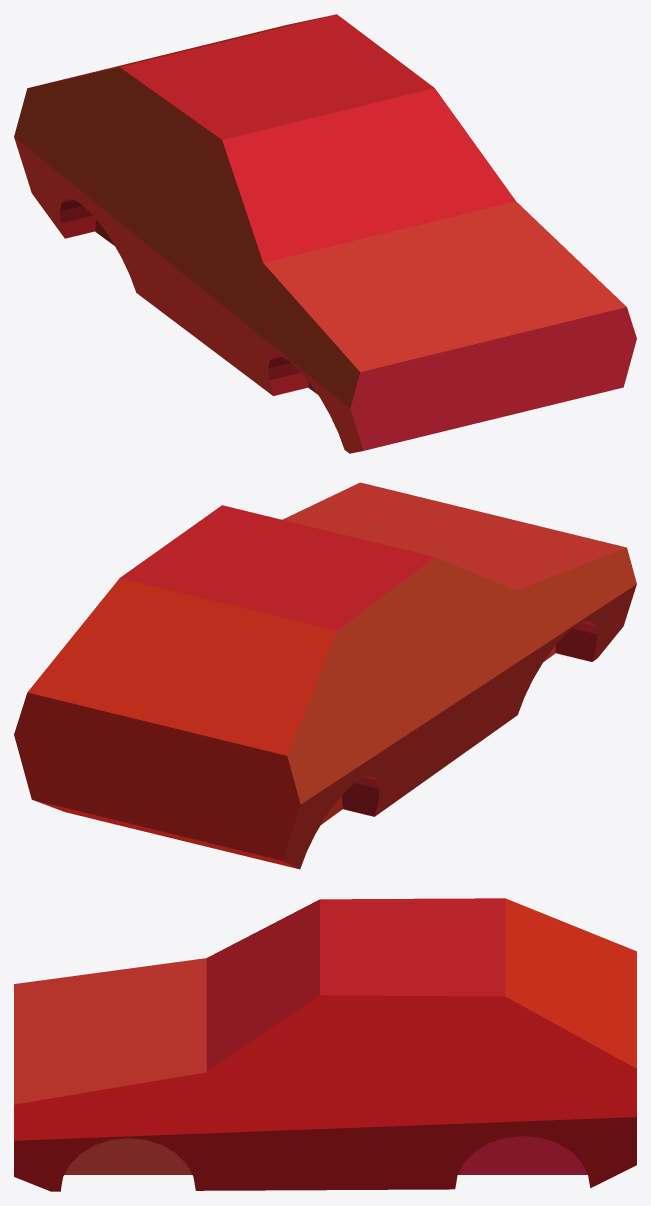
Rendered from CarGeo.fbx.
3 renders of one model, top to bottom at view 1: azimuth 30°, elevation 25°; view 2: azimuth 150°, elevation 25°; view 3: azimuth 270°, elevation 25°, orthographic. The views are drawn at different scales.
Visible parts, largest first — view 1: CarGeo; view 2: CarGeo; view 3: CarGeo.
Boxes of the visible parts, x1,y1,x2,y2 form: CarGeo: [14, 14, 636, 453]; CarGeo: [14, 482, 636, 869]; CarGeo: [14, 898, 636, 1191].
Size of the model in its own units: 1.48 by 1 by 3.
